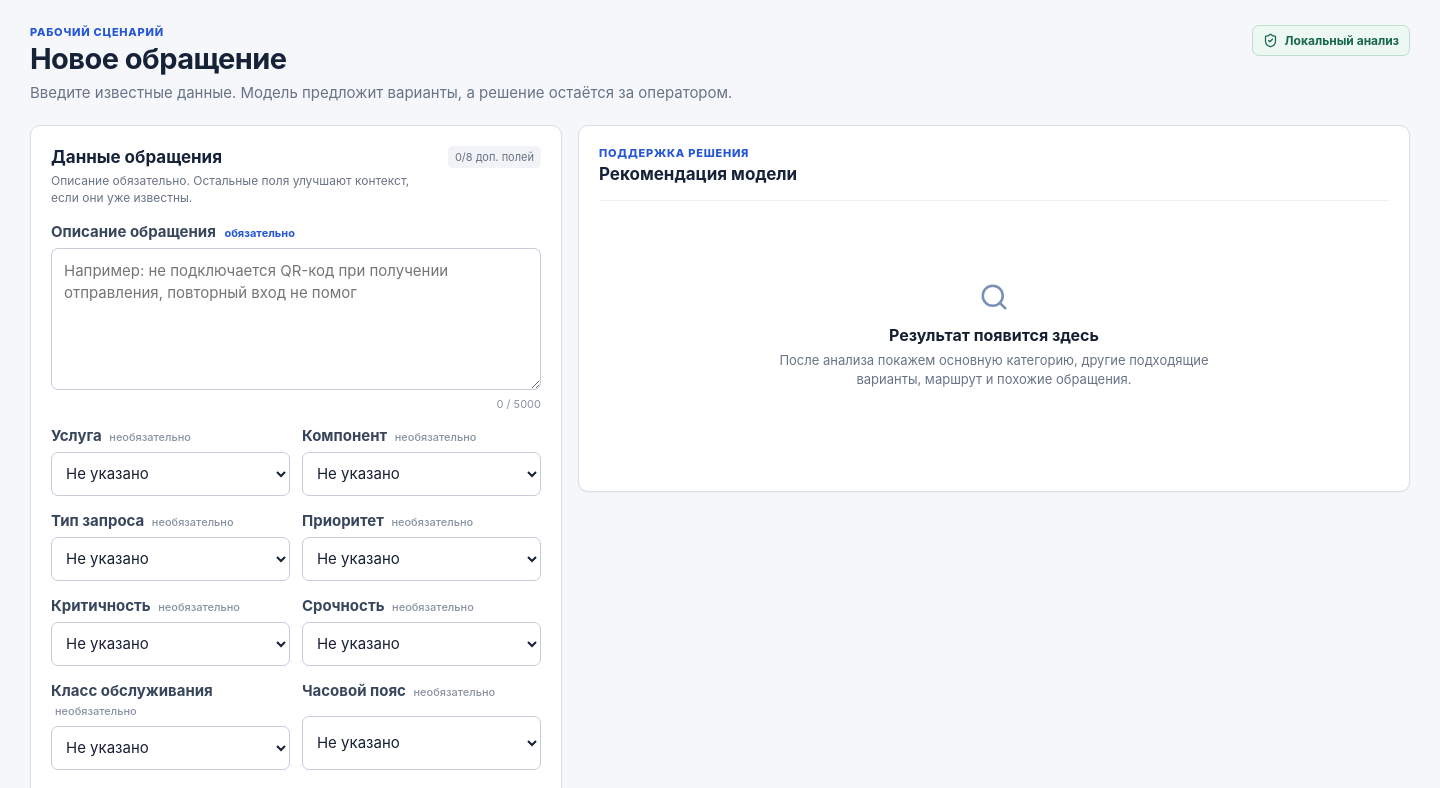
Test: shows a useful API error state
Replace the text in the text box labelled "Описание обращения" with "Достаточно длинное описание обращения" at (296, 319), box [51,248,541,390]
(page scrolled)
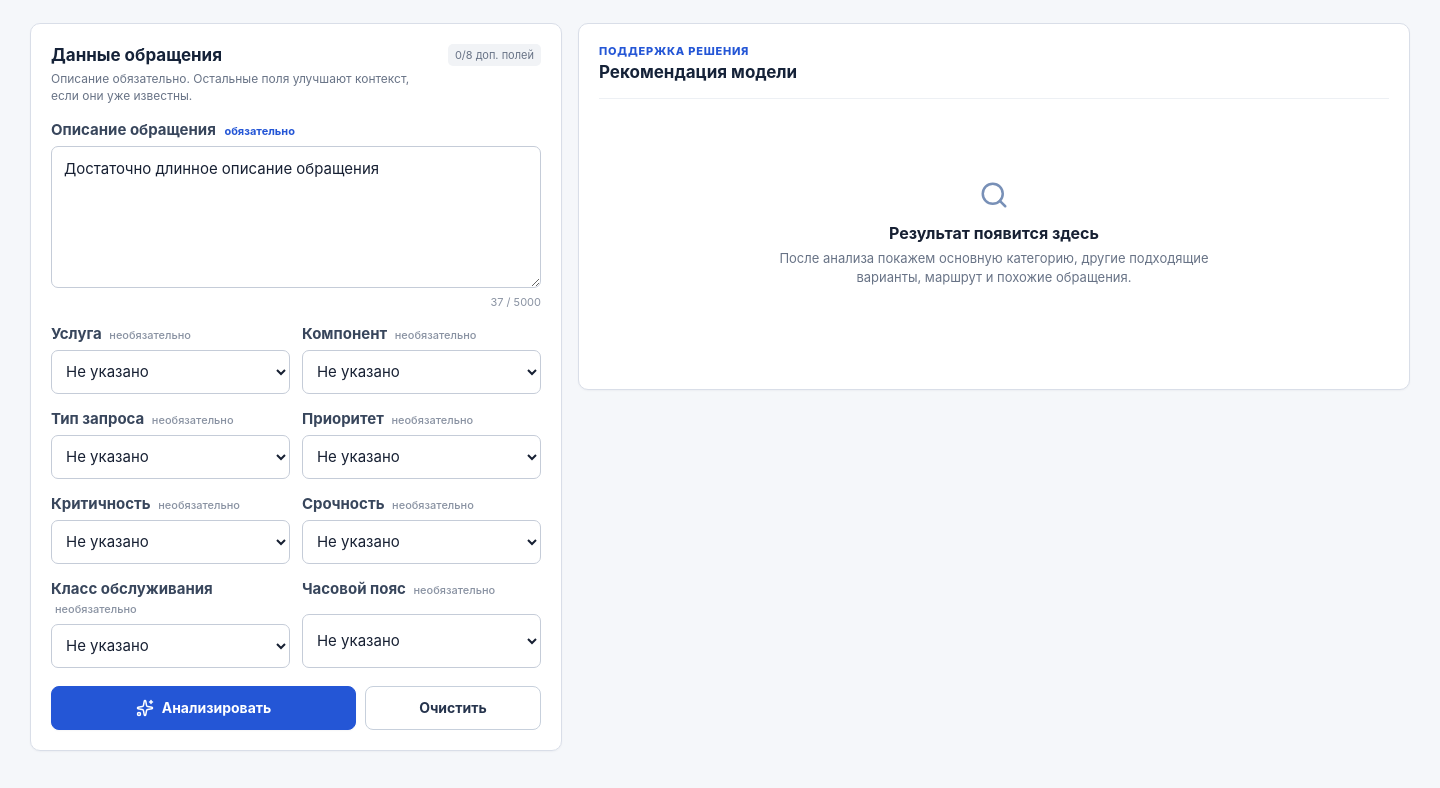
Click the button "Анализировать" at (204, 708), box [51,686,356,730]
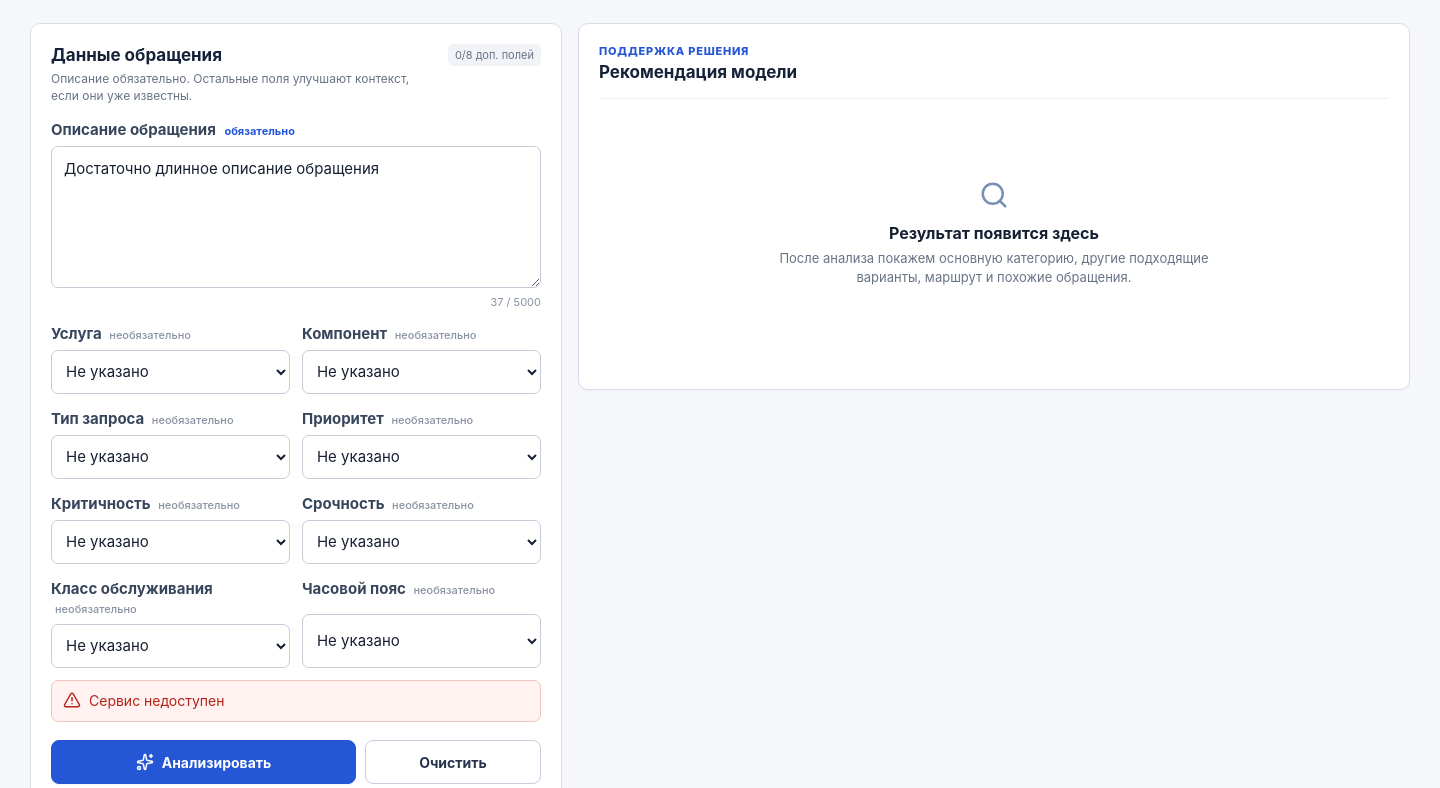
Check: the text "Сервис недоступен" is shown, box [51,680,541,722]
